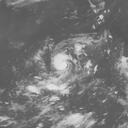cyclone: (52, 52, 72, 72)
